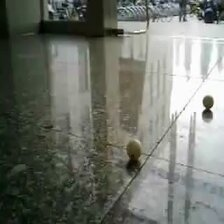w: (125, 138, 144, 160), (202, 94, 215, 110)
